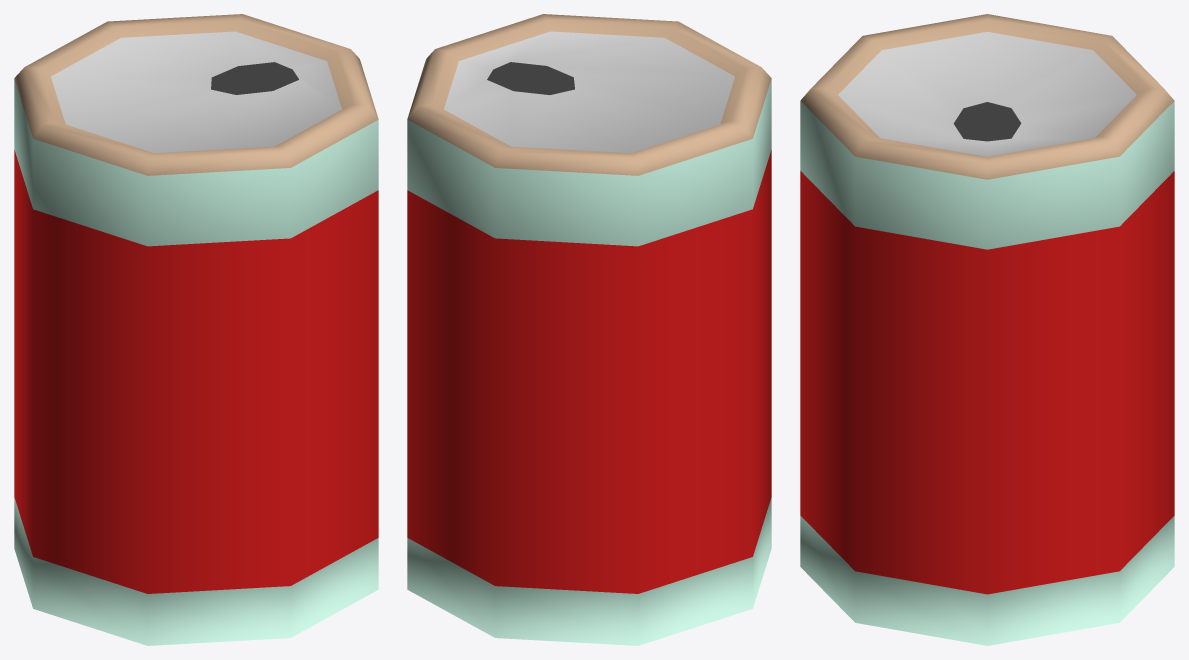
The model's file is Beer_Can.glb.
The picture shows the model from 3 angles, left to right: view 1: azimuth 30°, elevation 25°; view 2: azimuth 150°, elevation 25°; view 3: azimuth 270°, elevation 25°; orthographic projection.
Visible parts, largest first — view 1: Beer_Can; view 2: Beer_Can; view 3: Beer_Can.
Part boxes in pixels (x1=…): Beer_Can: x1=14, y1=14, x2=378, y2=645; Beer_Can: x1=407, y1=14, x2=771, y2=645; Beer_Can: x1=800, y1=14, x2=1174, y2=645.
Size of the model in its own units: 0.2768 by 0.3903 by 0.2768.
Materials: 1 (1 with a texture image).
